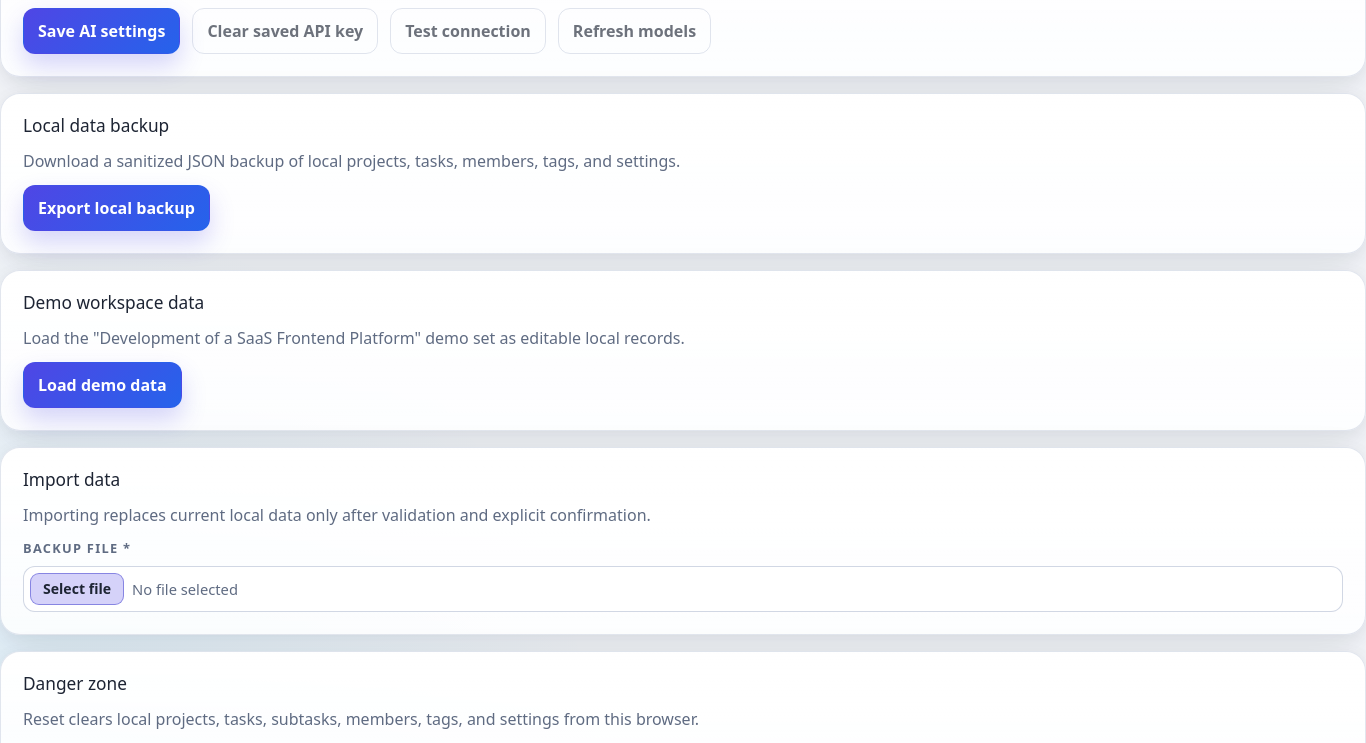
SettingsPage › replaces existing local data with demo data after confirmation
(page scrolled)
Click the button "Load demo data".
click(102, 385)  # box left=23, top=362, right=182, bottom=408
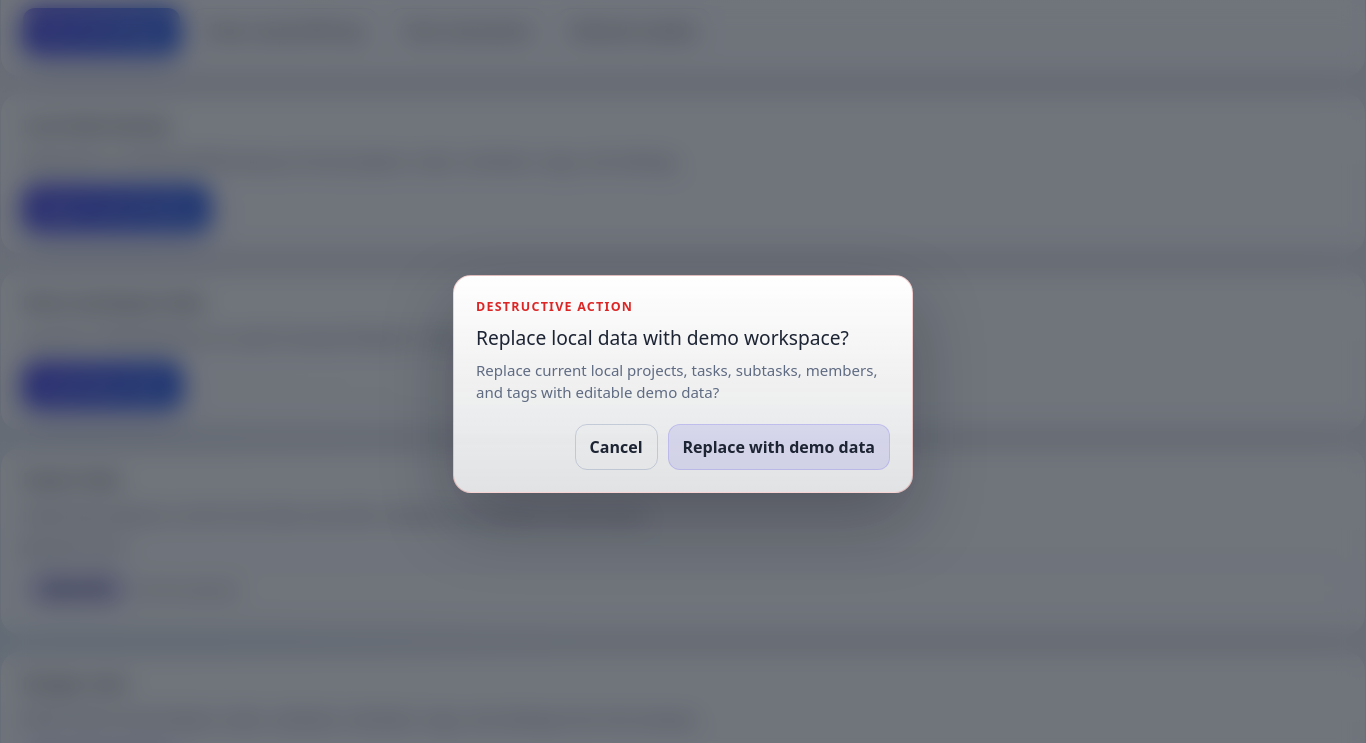
Click the button "Replace with demo data".
click(779, 447)  # box left=668, top=424, right=890, bottom=470
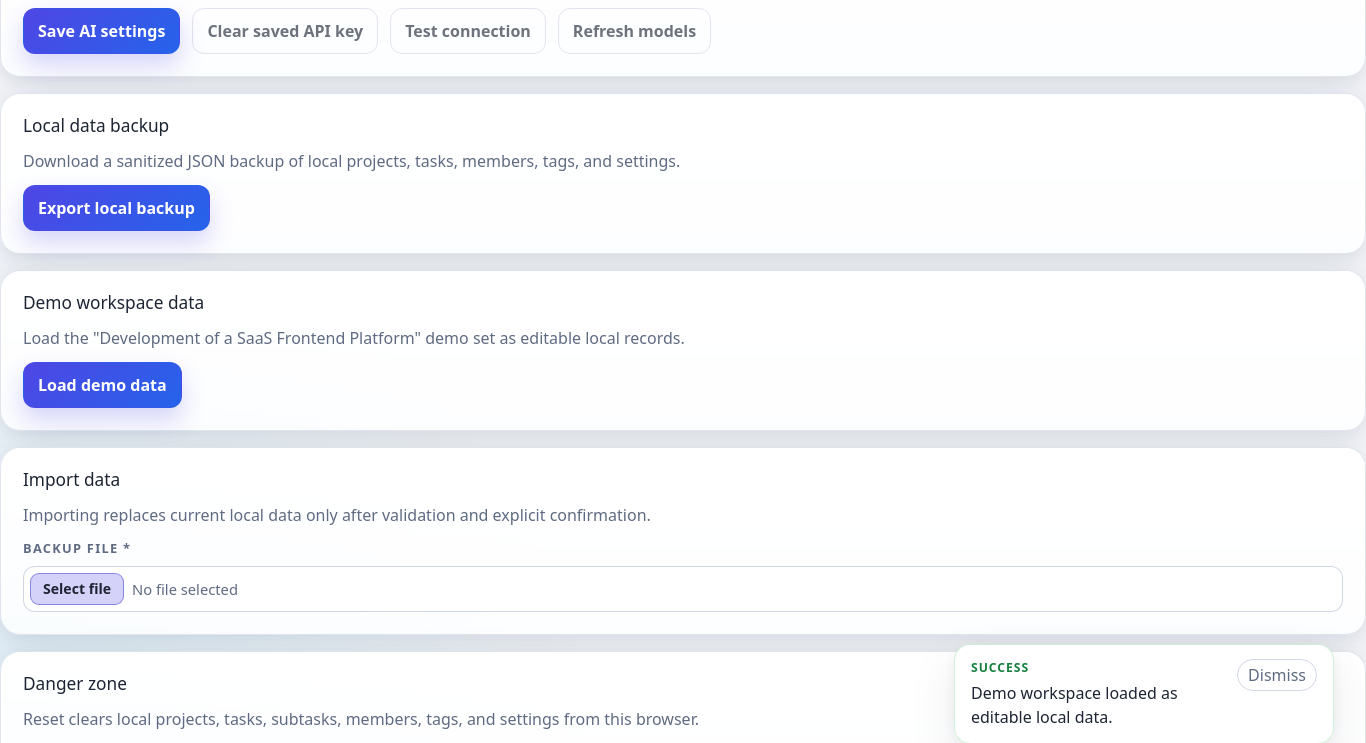
Now the text "Demo workspace loaded as editable local data." is shown, box left=971, top=682, right=1178, bottom=728
